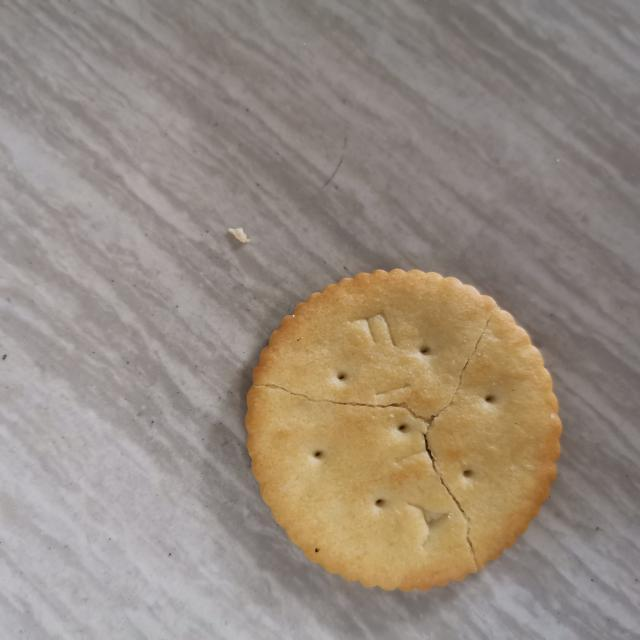Fracture: (249, 301, 514, 582)
